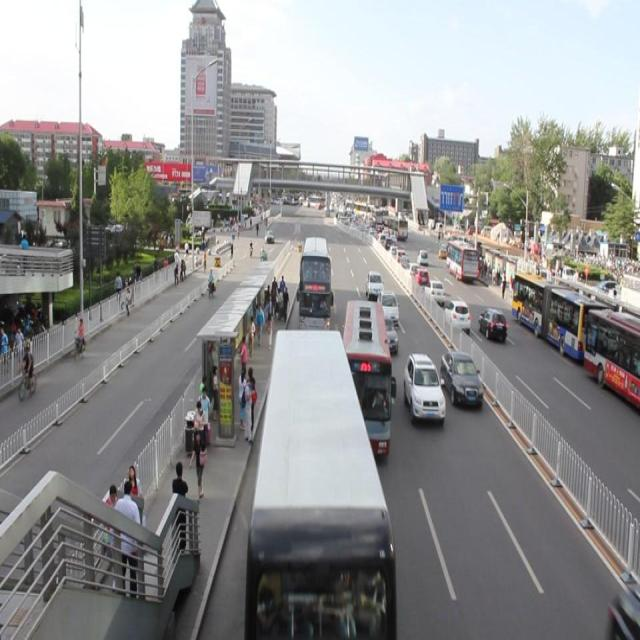car: (400, 351, 447, 425), (438, 343, 484, 408), (375, 307, 400, 353), (375, 284, 400, 322), (362, 268, 384, 297)
van: (237, 323, 405, 640), (334, 295, 399, 460), (291, 231, 336, 334)
